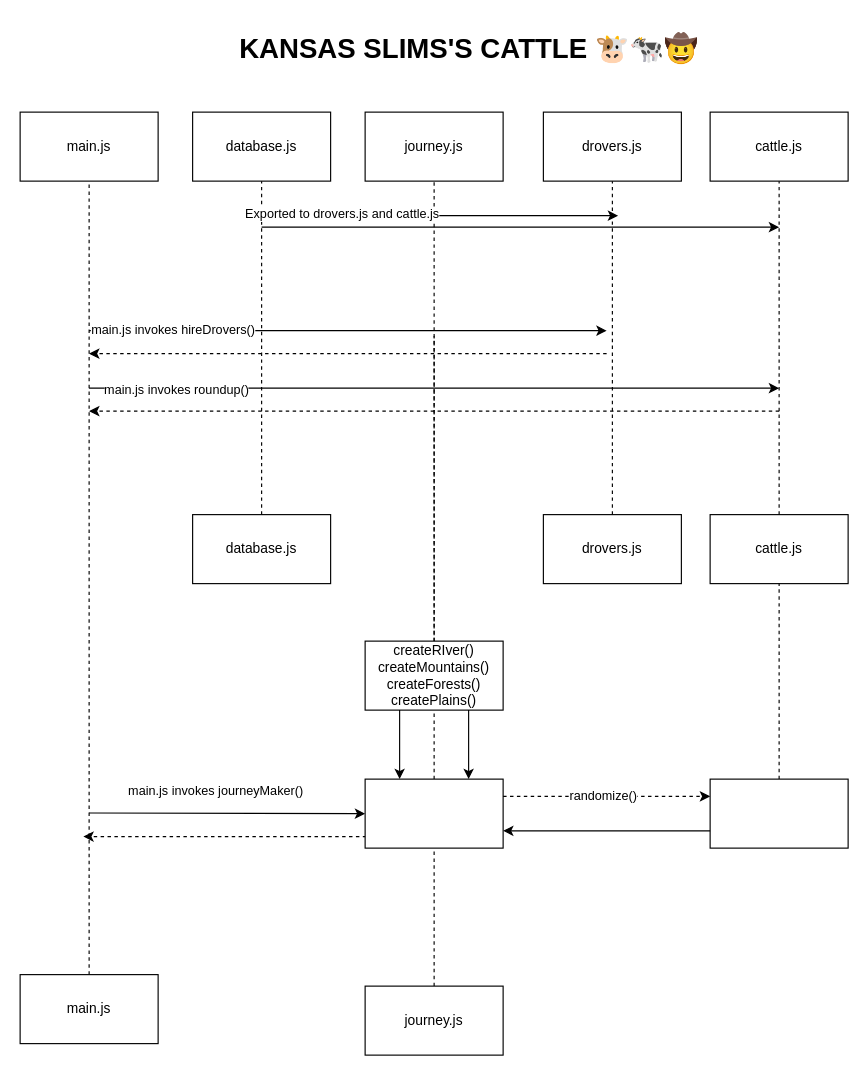
This 868x1075 diagram has some shape labels left out. Each missing label, with the centre of its shape:
"journeyMaker()" goes at pixel 433 813.
"util.js" goes at pixel 778 813.
